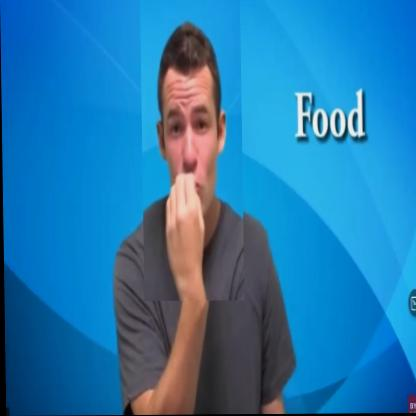Food: (140, 0, 244, 301)
